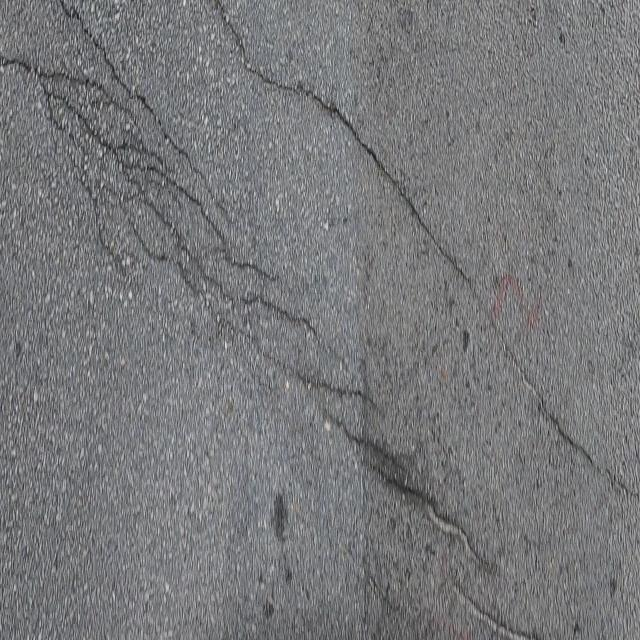Retak-Buaya: (0, 0, 537, 640)
Retak-Melintang: (210, 0, 638, 507)
